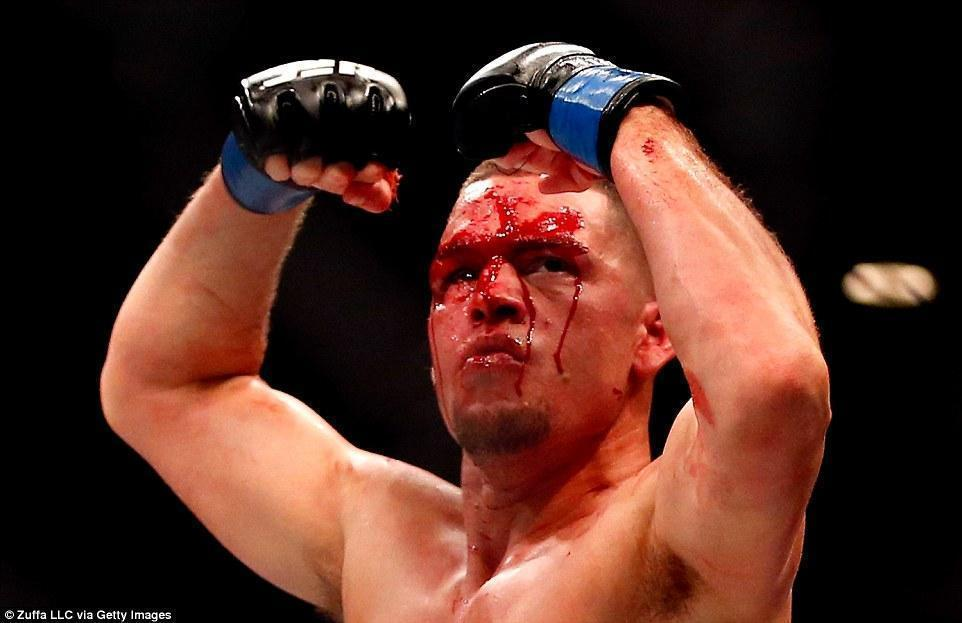Fire: (429, 174, 614, 428), (642, 137, 661, 162)
